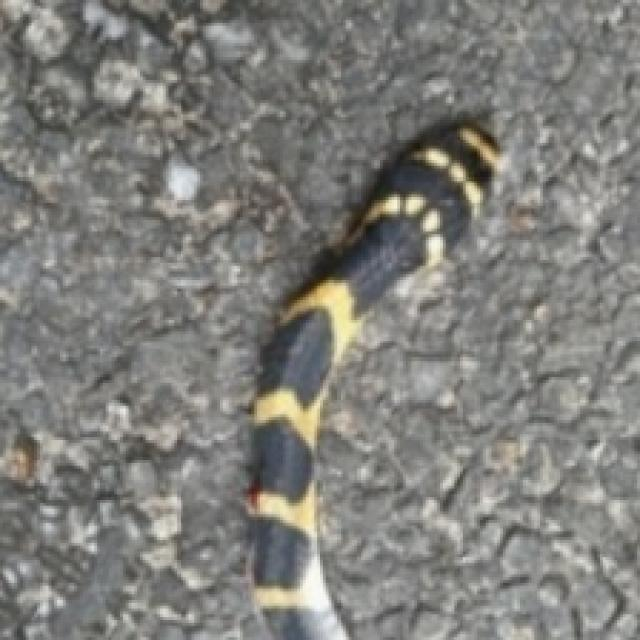king cobra: (249, 120, 497, 637)
